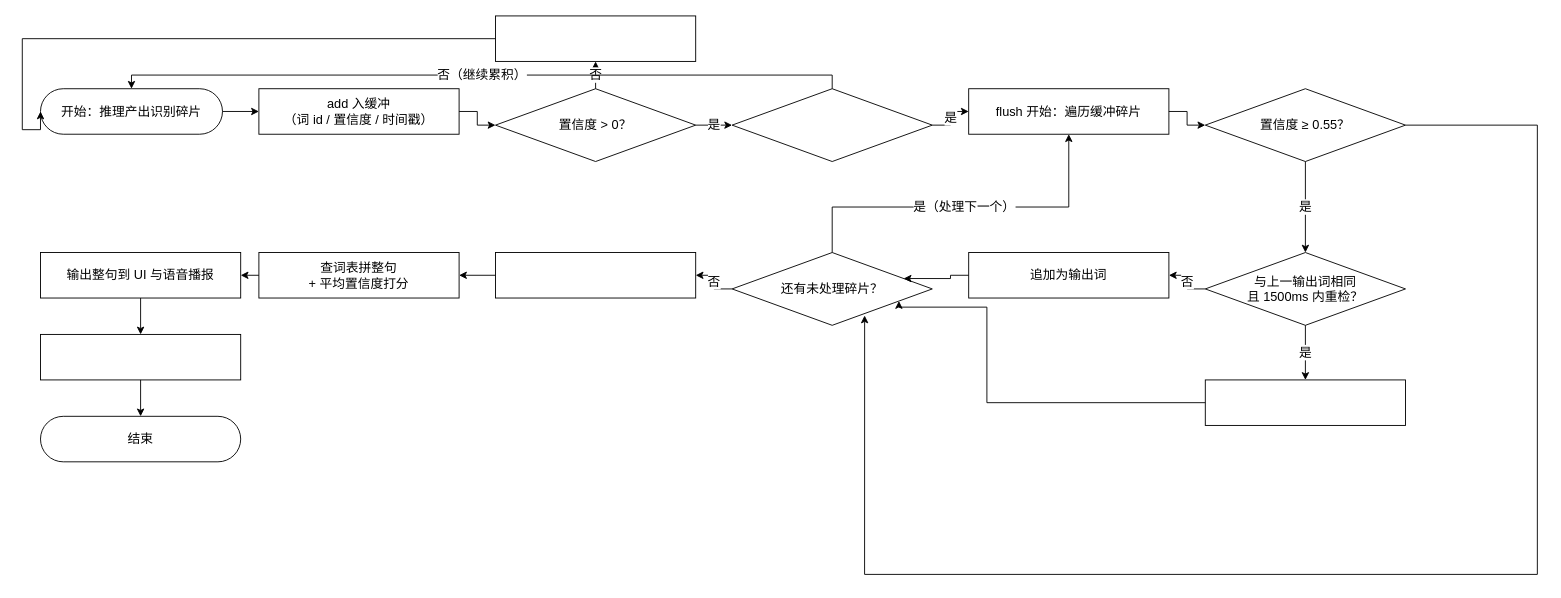
The diagram is 1561 pixels wide and 598 high, and some of its shapes have lost their labels. The shapes that lost their labels are listed below. From the top down, each one's centre as x and y in pixels, then its label:
(x=595, y=38): 丢弃该碎片
(x=831, y=125): 状态机判定句子结束？
(x=595, y=275): Pass 2 模板补全 （单「你好」保持原样）
(x=140, y=357): 清空缓冲（g_nfrags = 0）
(x=1304, y=402): 保留置信度更高者
